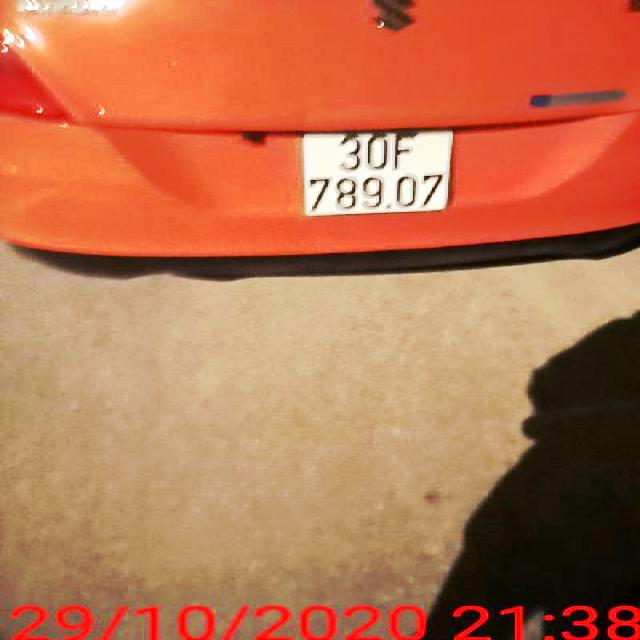license_plate: (300, 130, 457, 217)
